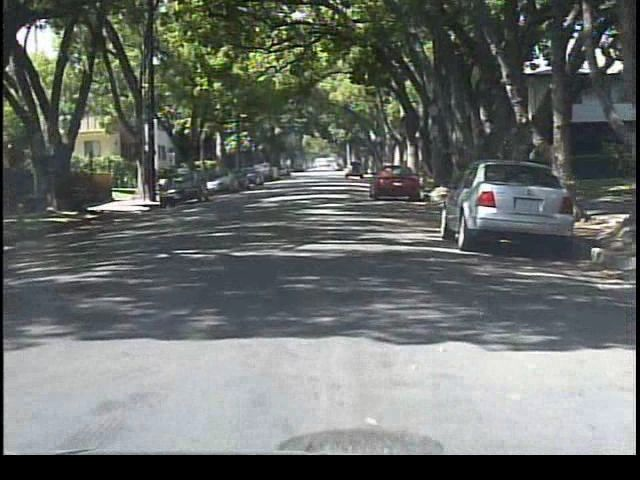person: (173, 164, 192, 198)
